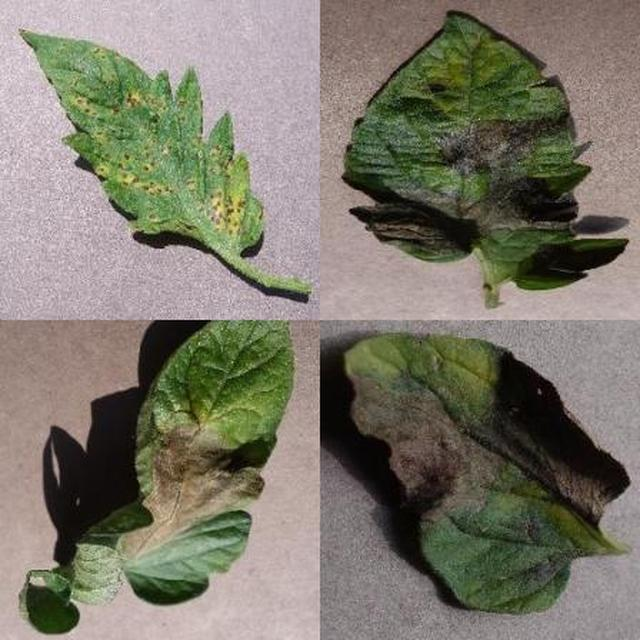Septoria Leaf: (207, 202, 640, 640)
